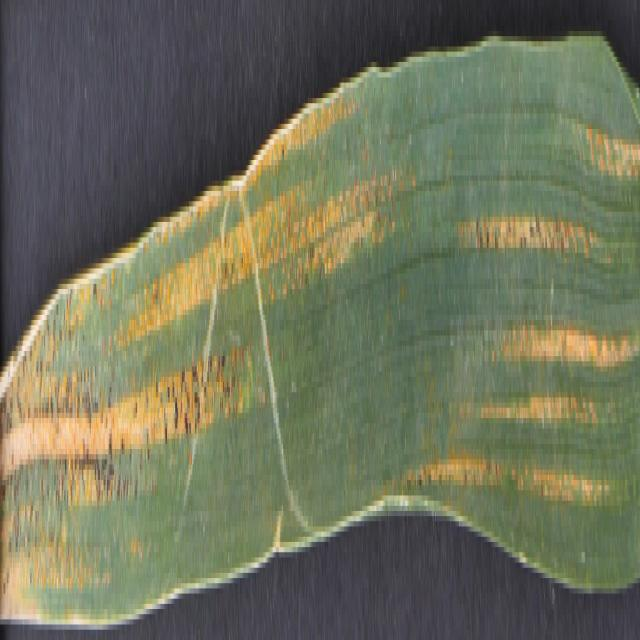leaf rust: (1, 108, 392, 614), (418, 98, 640, 552)
